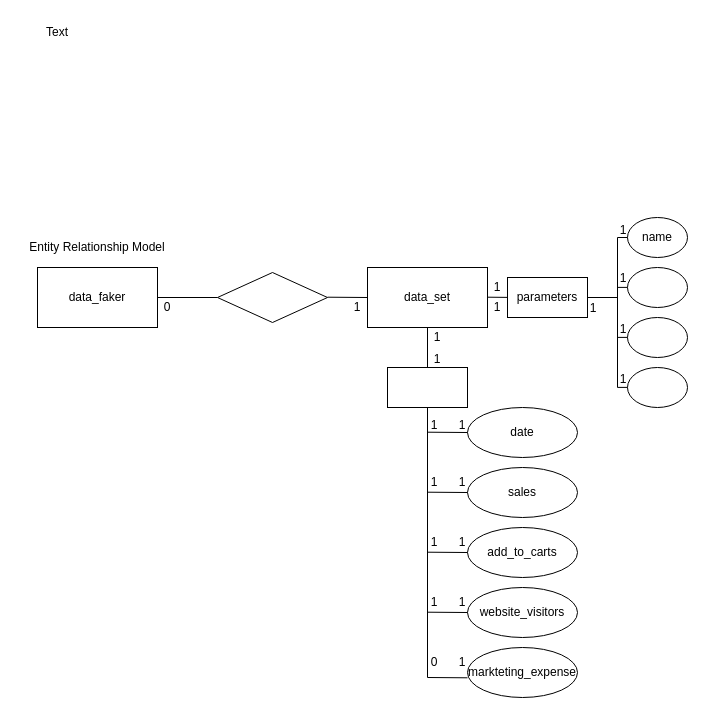
Some shapes in this 705 by 715 pixel diagram are drawn without their labels. Each missing label, with the box of its shape:
data: (386, 366, 468, 408)
end_date: (626, 316, 688, 358)
fake: (216, 272, 328, 322)
granuality: (626, 366, 688, 408)
start_date: (626, 266, 688, 308)
